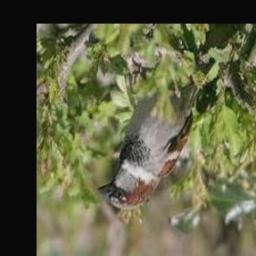Sparrow: (97, 81, 201, 210)
